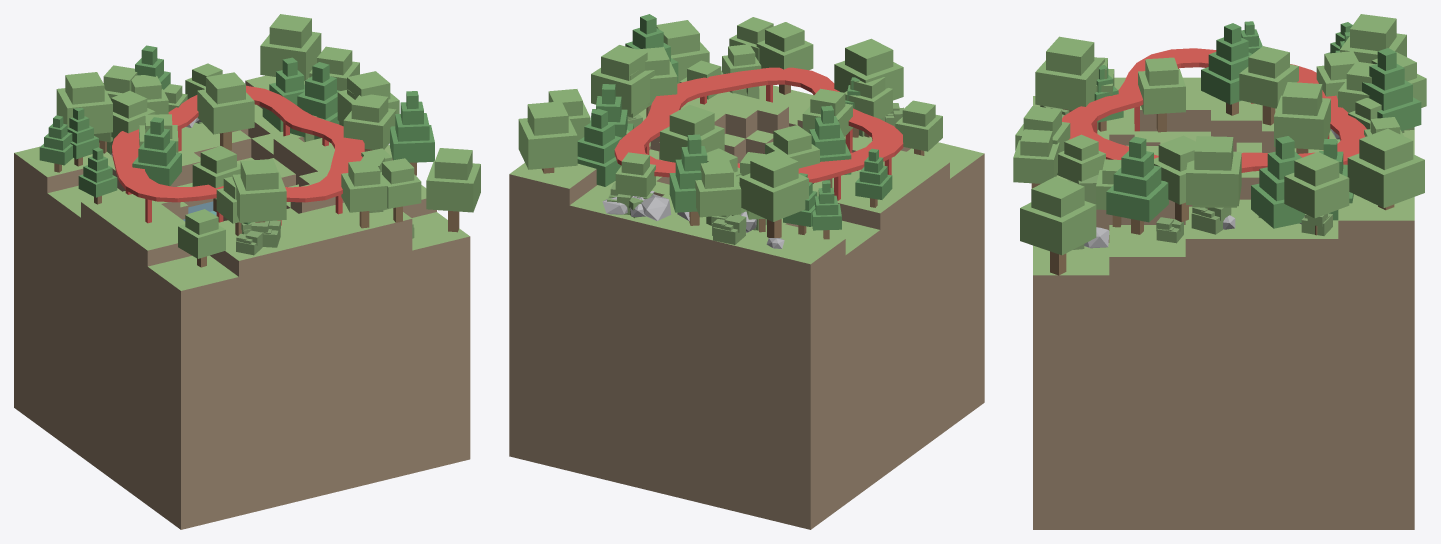
File: block_10_wetlands_100.glb
3 views of the same model, side by side, from view 1: azimuth 30°, elevation 25°; view 2: azimuth 150°, elevation 25°; view 3: azimuth 270°, elevation 25° (orthographic). The views are drawn at different scales.
Visible parts, largest first — view 1: Patch_LowerLeft_b10_WL, WL_Walk_10, WL_Clu_10_052, WL_Clu_10_083, WL_Clu_10_007, WL_Clu_10_018, WL_Clu_10_029, WL_Clu_10_023, WL_Clu_10_047, WL_Clu_10_020, WL_Clu_10_068, WL_Clu_10_002 (+18 smaller); view 2: Patch_LowerLeft_b10_WL, WL_Walk_10, WL_Clu_10_029, WL_Clu_10_018, WL_Clu_10_019, WL_Clu_10_007, WL_Clu_10_083, WL_Clu_10_065, WL_Clu_10_047, WL_Clu_10_075, WL_Clu_10_061, WL_Clu_10_002 (+18 smaller); view 3: Patch_LowerLeft_b10_WL, WL_Walk_10, WL_Clu_10_052, WL_Clu_10_018, WL_Clu_10_007, WL_Clu_10_023, WL_Clu_10_019, WL_Clu_10_017, WL_Clu_10_083, WL_Clu_10_079, WL_Clu_10_058, WL_Clu_10_061 (+17 smaller).
Boxes of the visible parts, left/top/right/bottom form: Patch_LowerLeft_b10_WL: left=14, top=75, right=470, bottom=529; WL_Walk_10: left=112, top=85, right=364, bottom=225; WL_Clu_10_052: left=426, top=148, right=480, bottom=232; WL_Clu_10_083: left=197, top=72, right=254, bottom=150; WL_Clu_10_007: left=232, top=159, right=286, bottom=222; WL_Clu_10_018: left=260, top=14, right=321, bottom=80; WL_Clu_10_029: left=56, top=72, right=112, bottom=133; WL_Clu_10_023: left=389, top=91, right=434, bottom=175; WL_Clu_10_047: left=341, top=159, right=387, bottom=228; WL_Clu_10_020: left=343, top=94, right=396, bottom=151; WL_Clu_10_068: left=132, top=117, right=181, bottom=186; WL_Clu_10_002: left=178, top=209, right=225, bottom=267; Patch_LowerLeft_b10_WL: left=509, top=85, right=984, bottom=529; WL_Walk_10: left=614, top=67, right=903, bottom=200; WL_Clu_10_029: left=739, top=151, right=808, bottom=237; WL_Clu_10_018: left=518, top=101, right=577, bottom=173; WL_Clu_10_019: left=591, top=45, right=654, bottom=114; WL_Clu_10_007: left=834, top=38, right=903, bottom=100; WL_Clu_10_083: left=660, top=104, right=724, bottom=162; WL_Clu_10_065: left=695, top=160, right=741, bottom=217; WL_Clu_10_047: left=756, top=22, right=813, bottom=94; WL_Clu_10_075: left=577, top=108, right=622, bottom=186; WL_Clu_10_061: left=669, top=134, right=707, bottom=225; WL_Clu_10_002: left=895, top=100, right=942, bottom=155; Patch_LowerLeft_b10_WL: left=1033, top=77, right=1414, bottom=529; WL_Walk_10: left=1062, top=48, right=1366, bottom=172; WL_Clu_10_052: left=1020, top=176, right=1096, bottom=275; WL_Clu_10_018: left=1347, top=128, right=1424, bottom=210; WL_Clu_10_007: left=1035, top=36, right=1104, bottom=112; WL_Clu_10_023: left=1106, top=136, right=1168, bottom=234; WL_Clu_10_019: left=1186, top=136, right=1241, bottom=209; WL_Clu_10_017: left=1284, top=152, right=1349, bottom=235; WL_Clu_10_083: left=1274, top=82, right=1330, bottom=153; WL_Clu_10_079: left=1251, top=136, right=1304, bottom=228; WL_Clu_10_058: left=1239, top=46, right=1298, bottom=125; WL_Clu_10_061: left=1362, top=48, right=1421, bottom=130.
Bounding box in the file's own units: 10.34 × 10.6 × 10.29.
